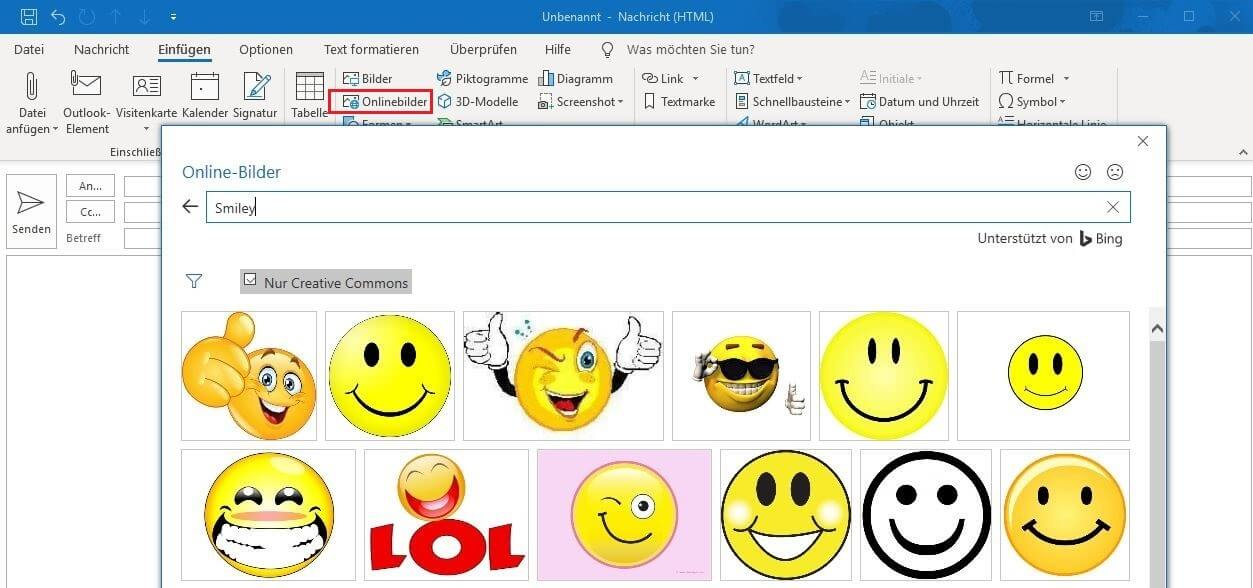feliz: (805, 313, 968, 446), (997, 443, 1134, 574), (331, 312, 451, 445), (869, 452, 986, 581), (1002, 336, 1111, 419), (336, 334, 438, 418), (830, 340, 934, 422), (889, 478, 961, 558)
